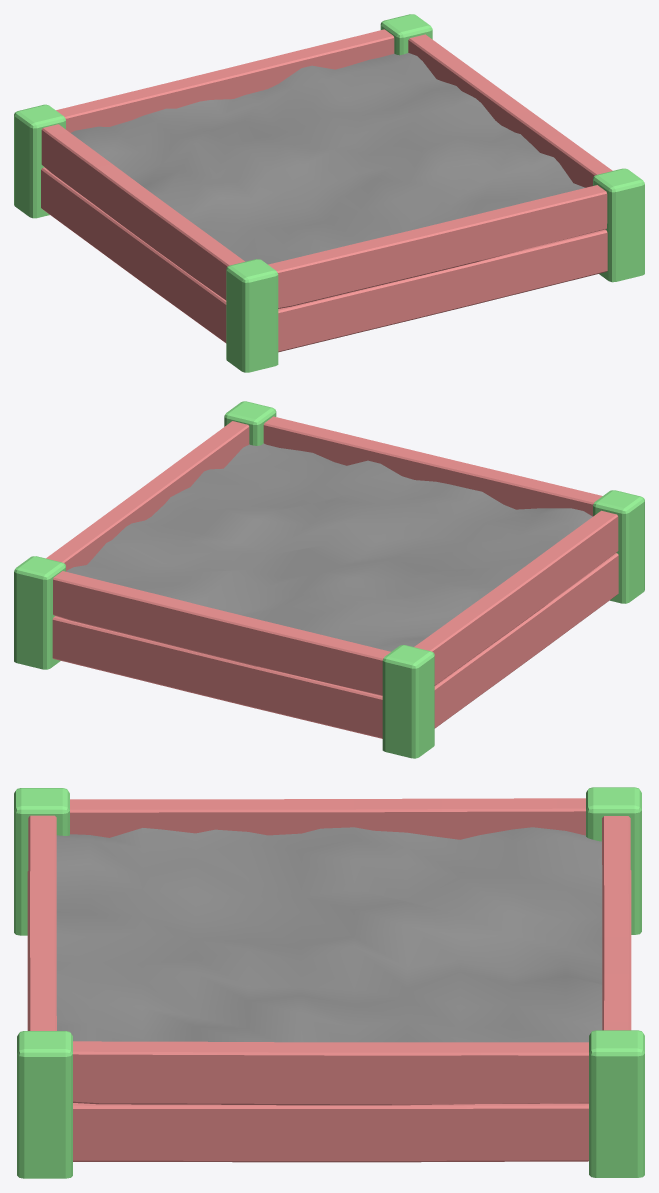
File: PlantingBox.fbx
3 views of the same model, one above another, from view 1: azimuth 30°, elevation 25°; view 2: azimuth 150°, elevation 25°; view 3: azimuth 270°, elevation 25° (orthographic). The views are drawn at different scales.
Parts seen in each view (by area): view 1: SM_PlantingBox; view 2: SM_PlantingBox; view 3: SM_PlantingBox.
Part boxes in pixels (x1,y1,x2,y2): SM_PlantingBox: (14,14,644,372); SM_PlantingBox: (14,401,644,758); SM_PlantingBox: (14,787,644,1178).
Size of the model in its own units: 283 by 62.48 by 282.
